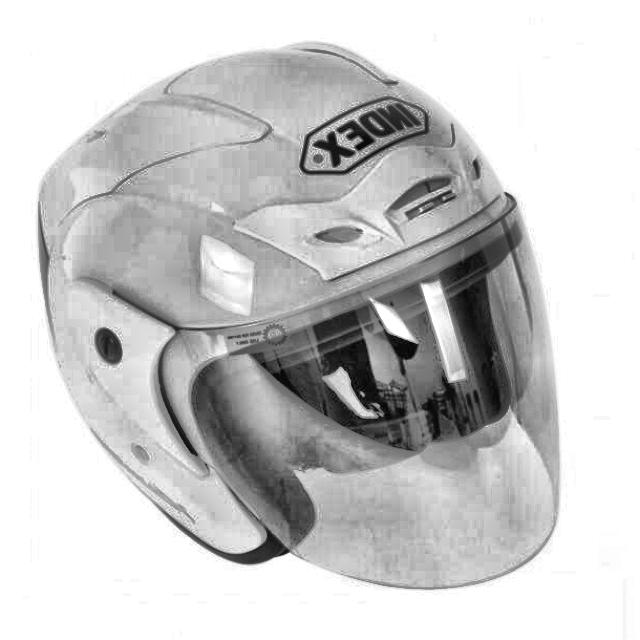Helmet: (27, 27, 576, 604)
